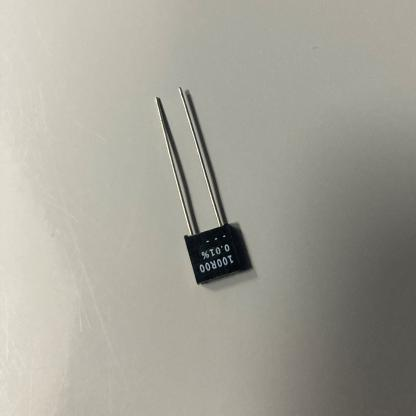SP0000007: (95, 60, 295, 342)
